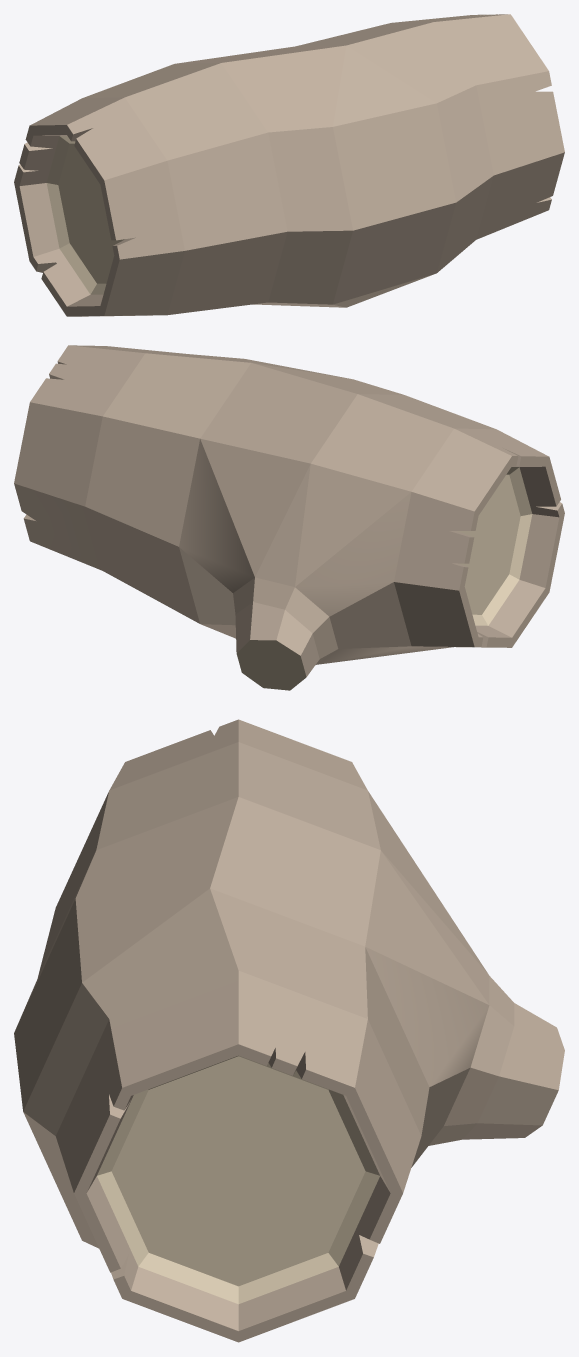
The model's file is Hilly_Prop_Camp_Sitting_Log.glb.
The picture shows the model from 3 angles, top to bottom: view 1: azimuth 30°, elevation 25°; view 2: azimuth 150°, elevation 25°; view 3: azimuth 270°, elevation 25°; orthographic projection. The views are drawn at different scales.
Parts seen in each view (by area): view 1: Hilly_Prop_Camp_Sitting_Log; view 2: Hilly_Prop_Camp_Sitting_Log; view 3: Hilly_Prop_Camp_Sitting_Log.
Part boxes in pixels (left/top/right/bottom): Hilly_Prop_Camp_Sitting_Log: left=14, top=14, right=564, bottom=316; Hilly_Prop_Camp_Sitting_Log: left=14, top=345, right=564, bottom=690; Hilly_Prop_Camp_Sitting_Log: left=14, top=719, right=564, bottom=1342.
Bounding box in the file's own units: 0.575 × 0.3295 × 0.4076.
